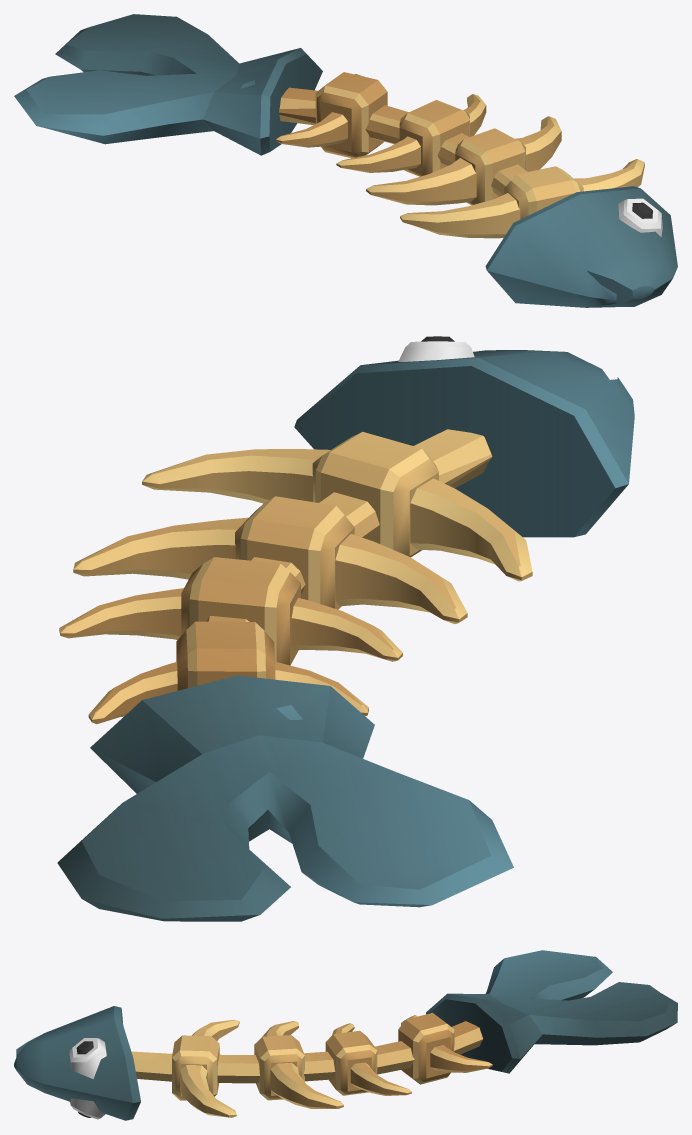
The model's file is FishBones_1_B.glb.
3 renders of one model, top to bottom at view 1: azimuth 30°, elevation 25°; view 2: azimuth 150°, elevation 25°; view 3: azimuth 270°, elevation 25°, orthographic. The views are drawn at different scales.
Parts seen in each view (by area): view 1: FishBones_1_B; view 2: FishBones_1_B; view 3: FishBones_1_B.
Boxes of the visible parts, x1=… form: FishBones_1_B: x1=14, y1=14, x2=677, y2=307; FishBones_1_B: x1=57, y1=336, x2=634, y2=921; FishBones_1_B: x1=14, y1=950, x2=677, y2=1120.
Size of the model in its own units: 0.2718 by 0.0675 by 0.4623.
1 material, 1 textured.
